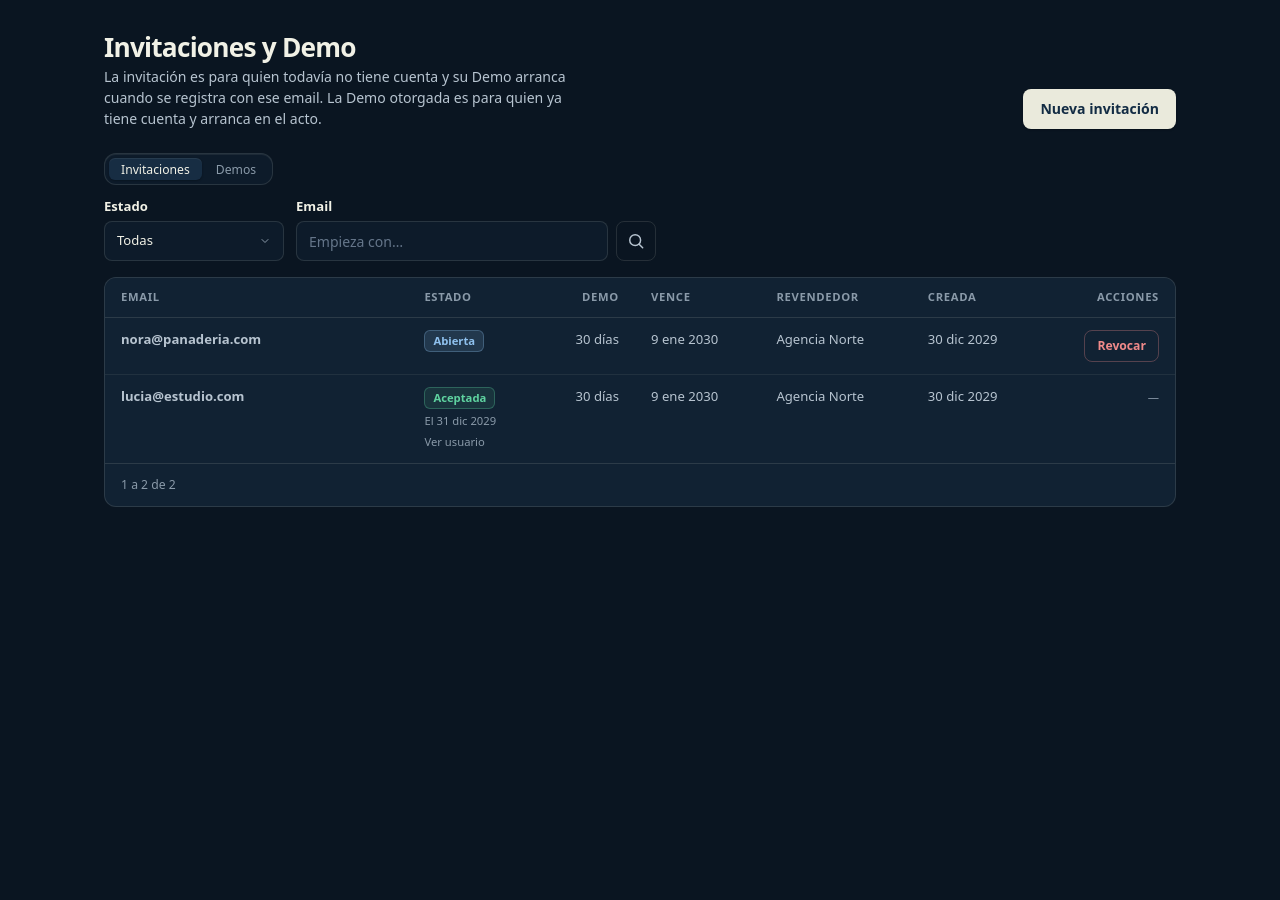
Scenario: InvitationsScreen › revokes an invitation with a reason and loads the list again
Click the button "Revocar" at (1122,346), box [1084, 330, 1159, 362]
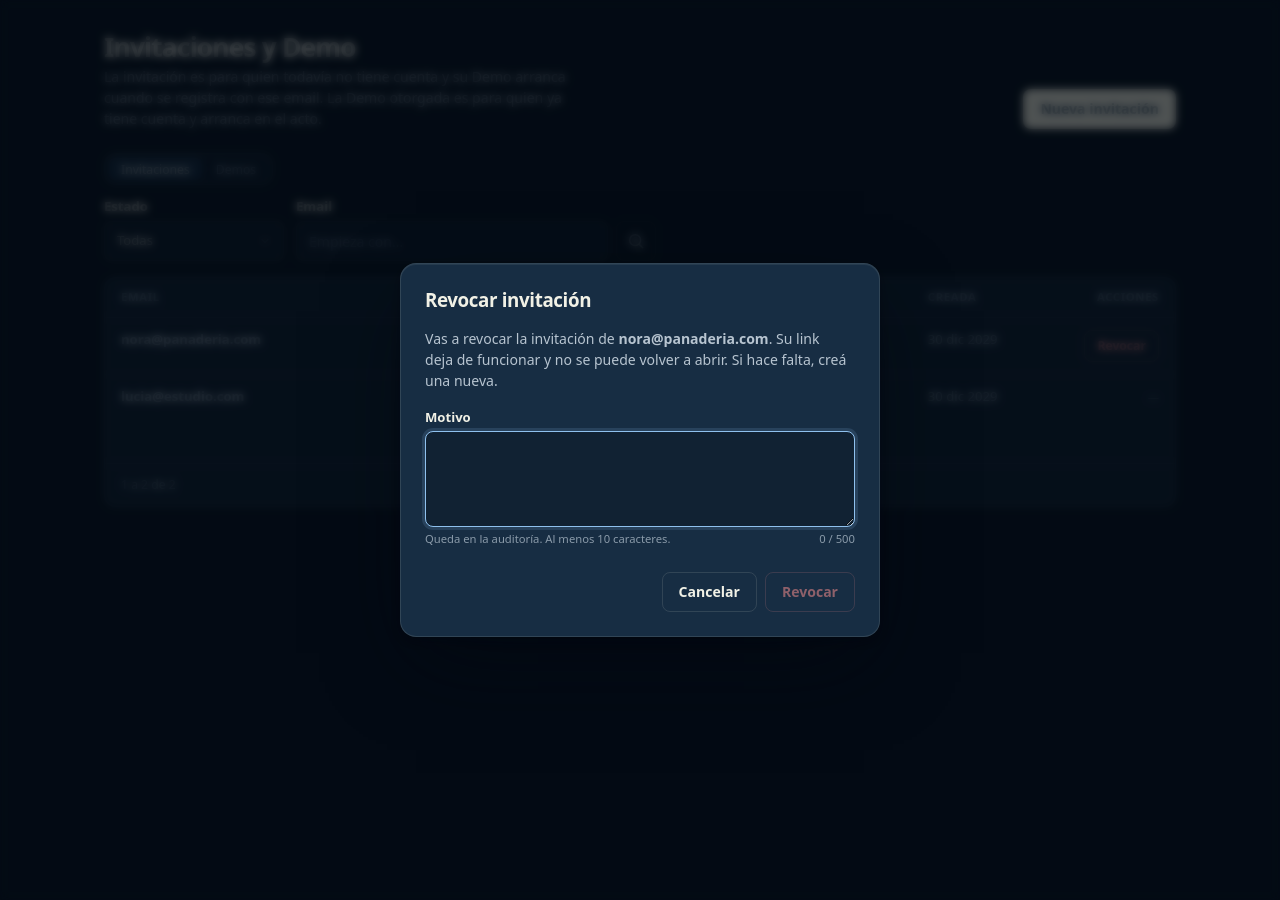
Type "Pedido del equipo comercial" into the text box labelled "Motivo" at (640,479), box [425, 431, 855, 527]
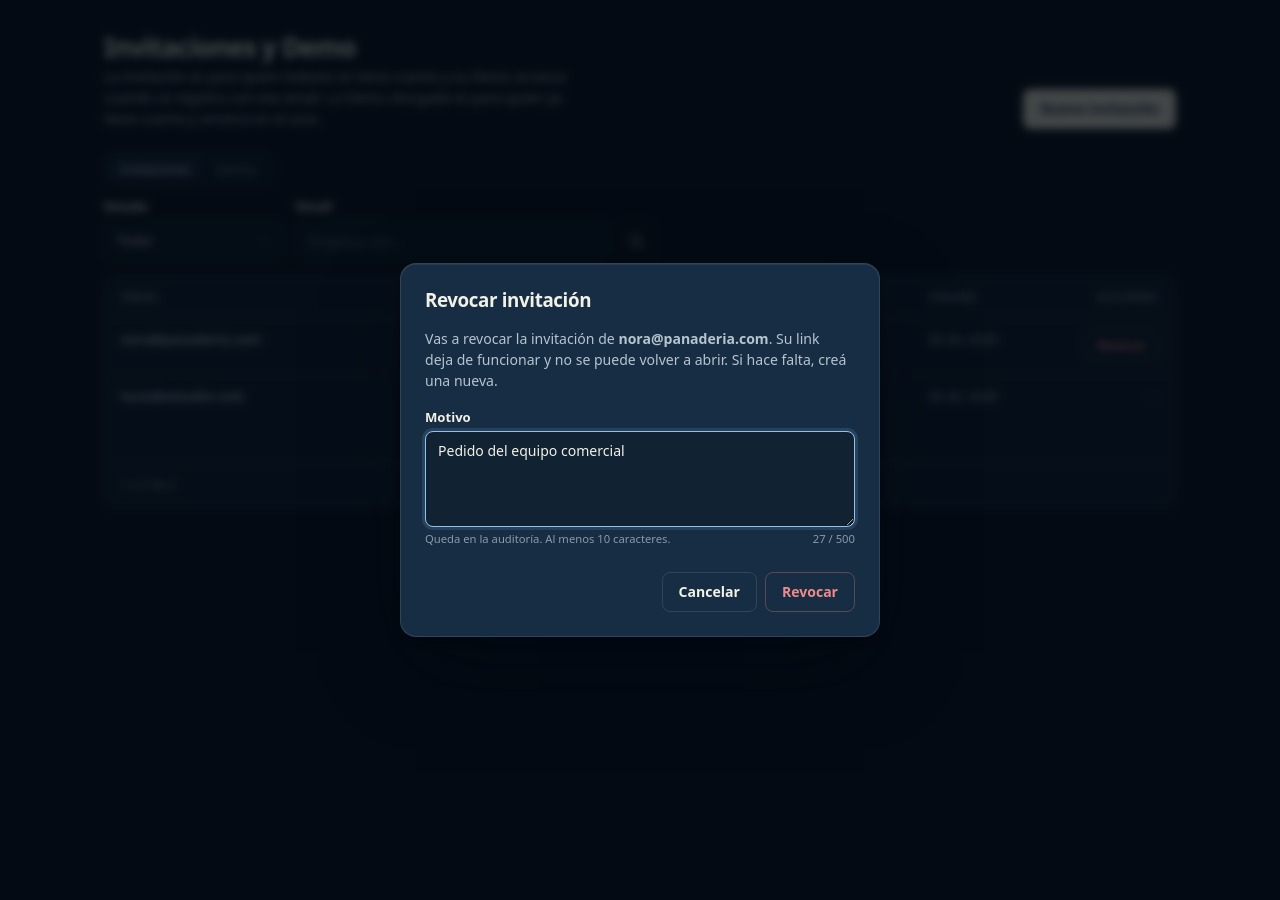
Click the button "Revocar" at (810,592), box [765, 572, 855, 612]
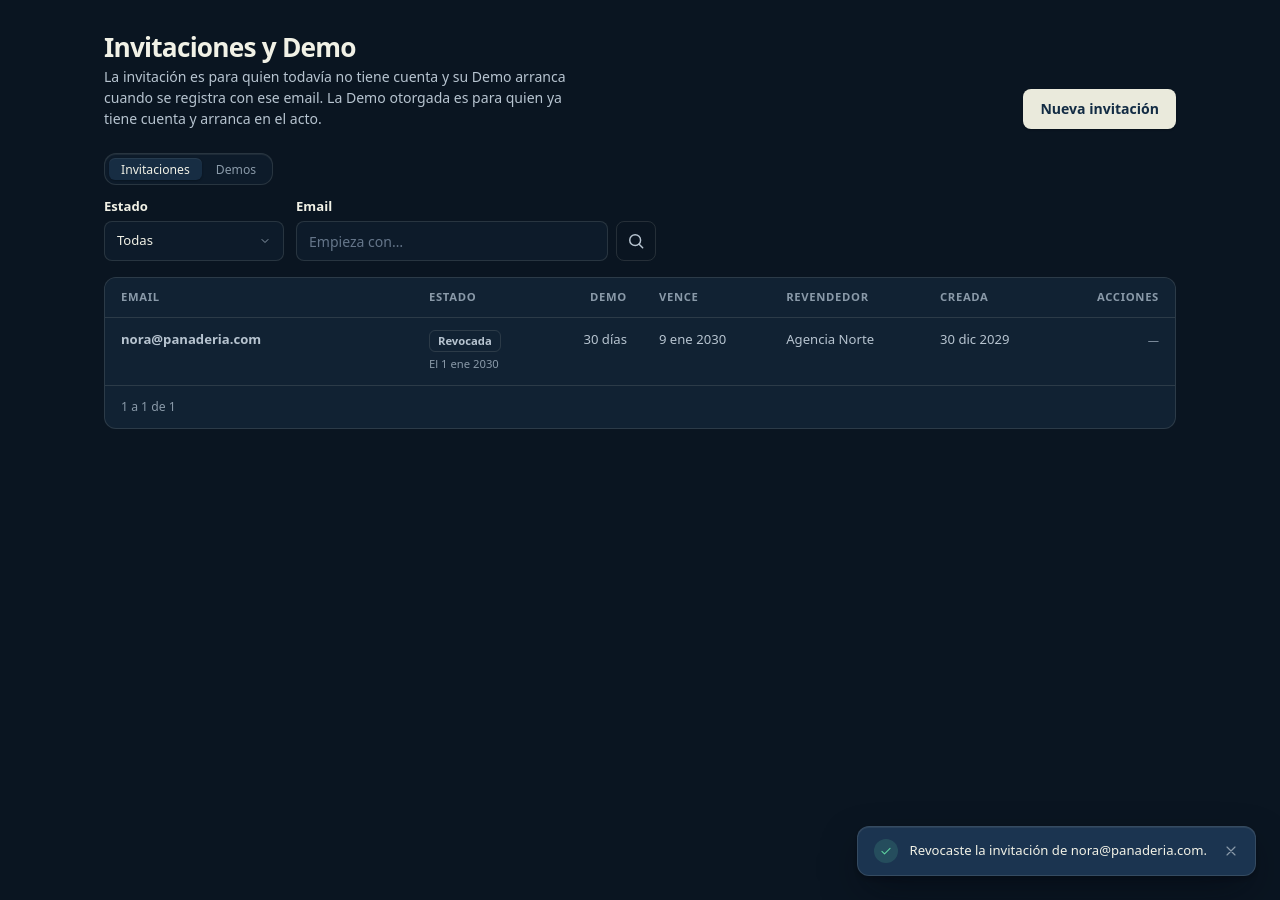
Result: the text "Revocada" is shown at [429, 330, 501, 352]
Result: the text "Revocaste la invitación de nora@panaderia.com." is shown at [910, 841, 1207, 861]
